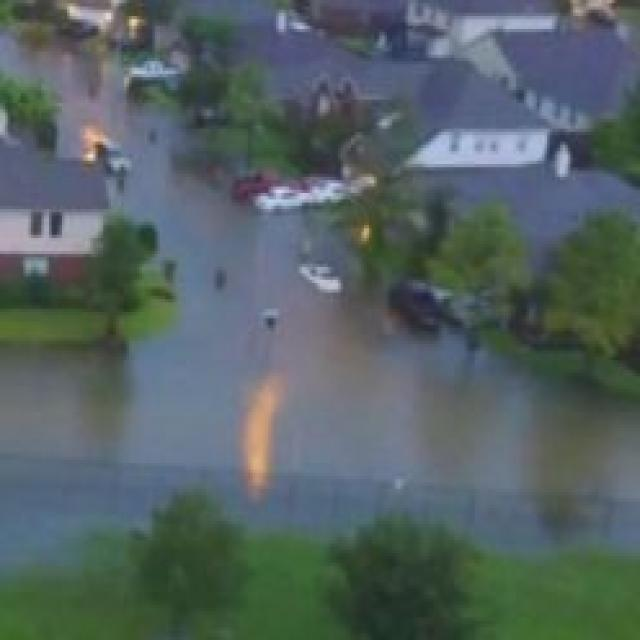flood: (0, 34, 640, 500)
house: (460, 15, 640, 134), (374, 64, 554, 178), (0, 153, 109, 280)
